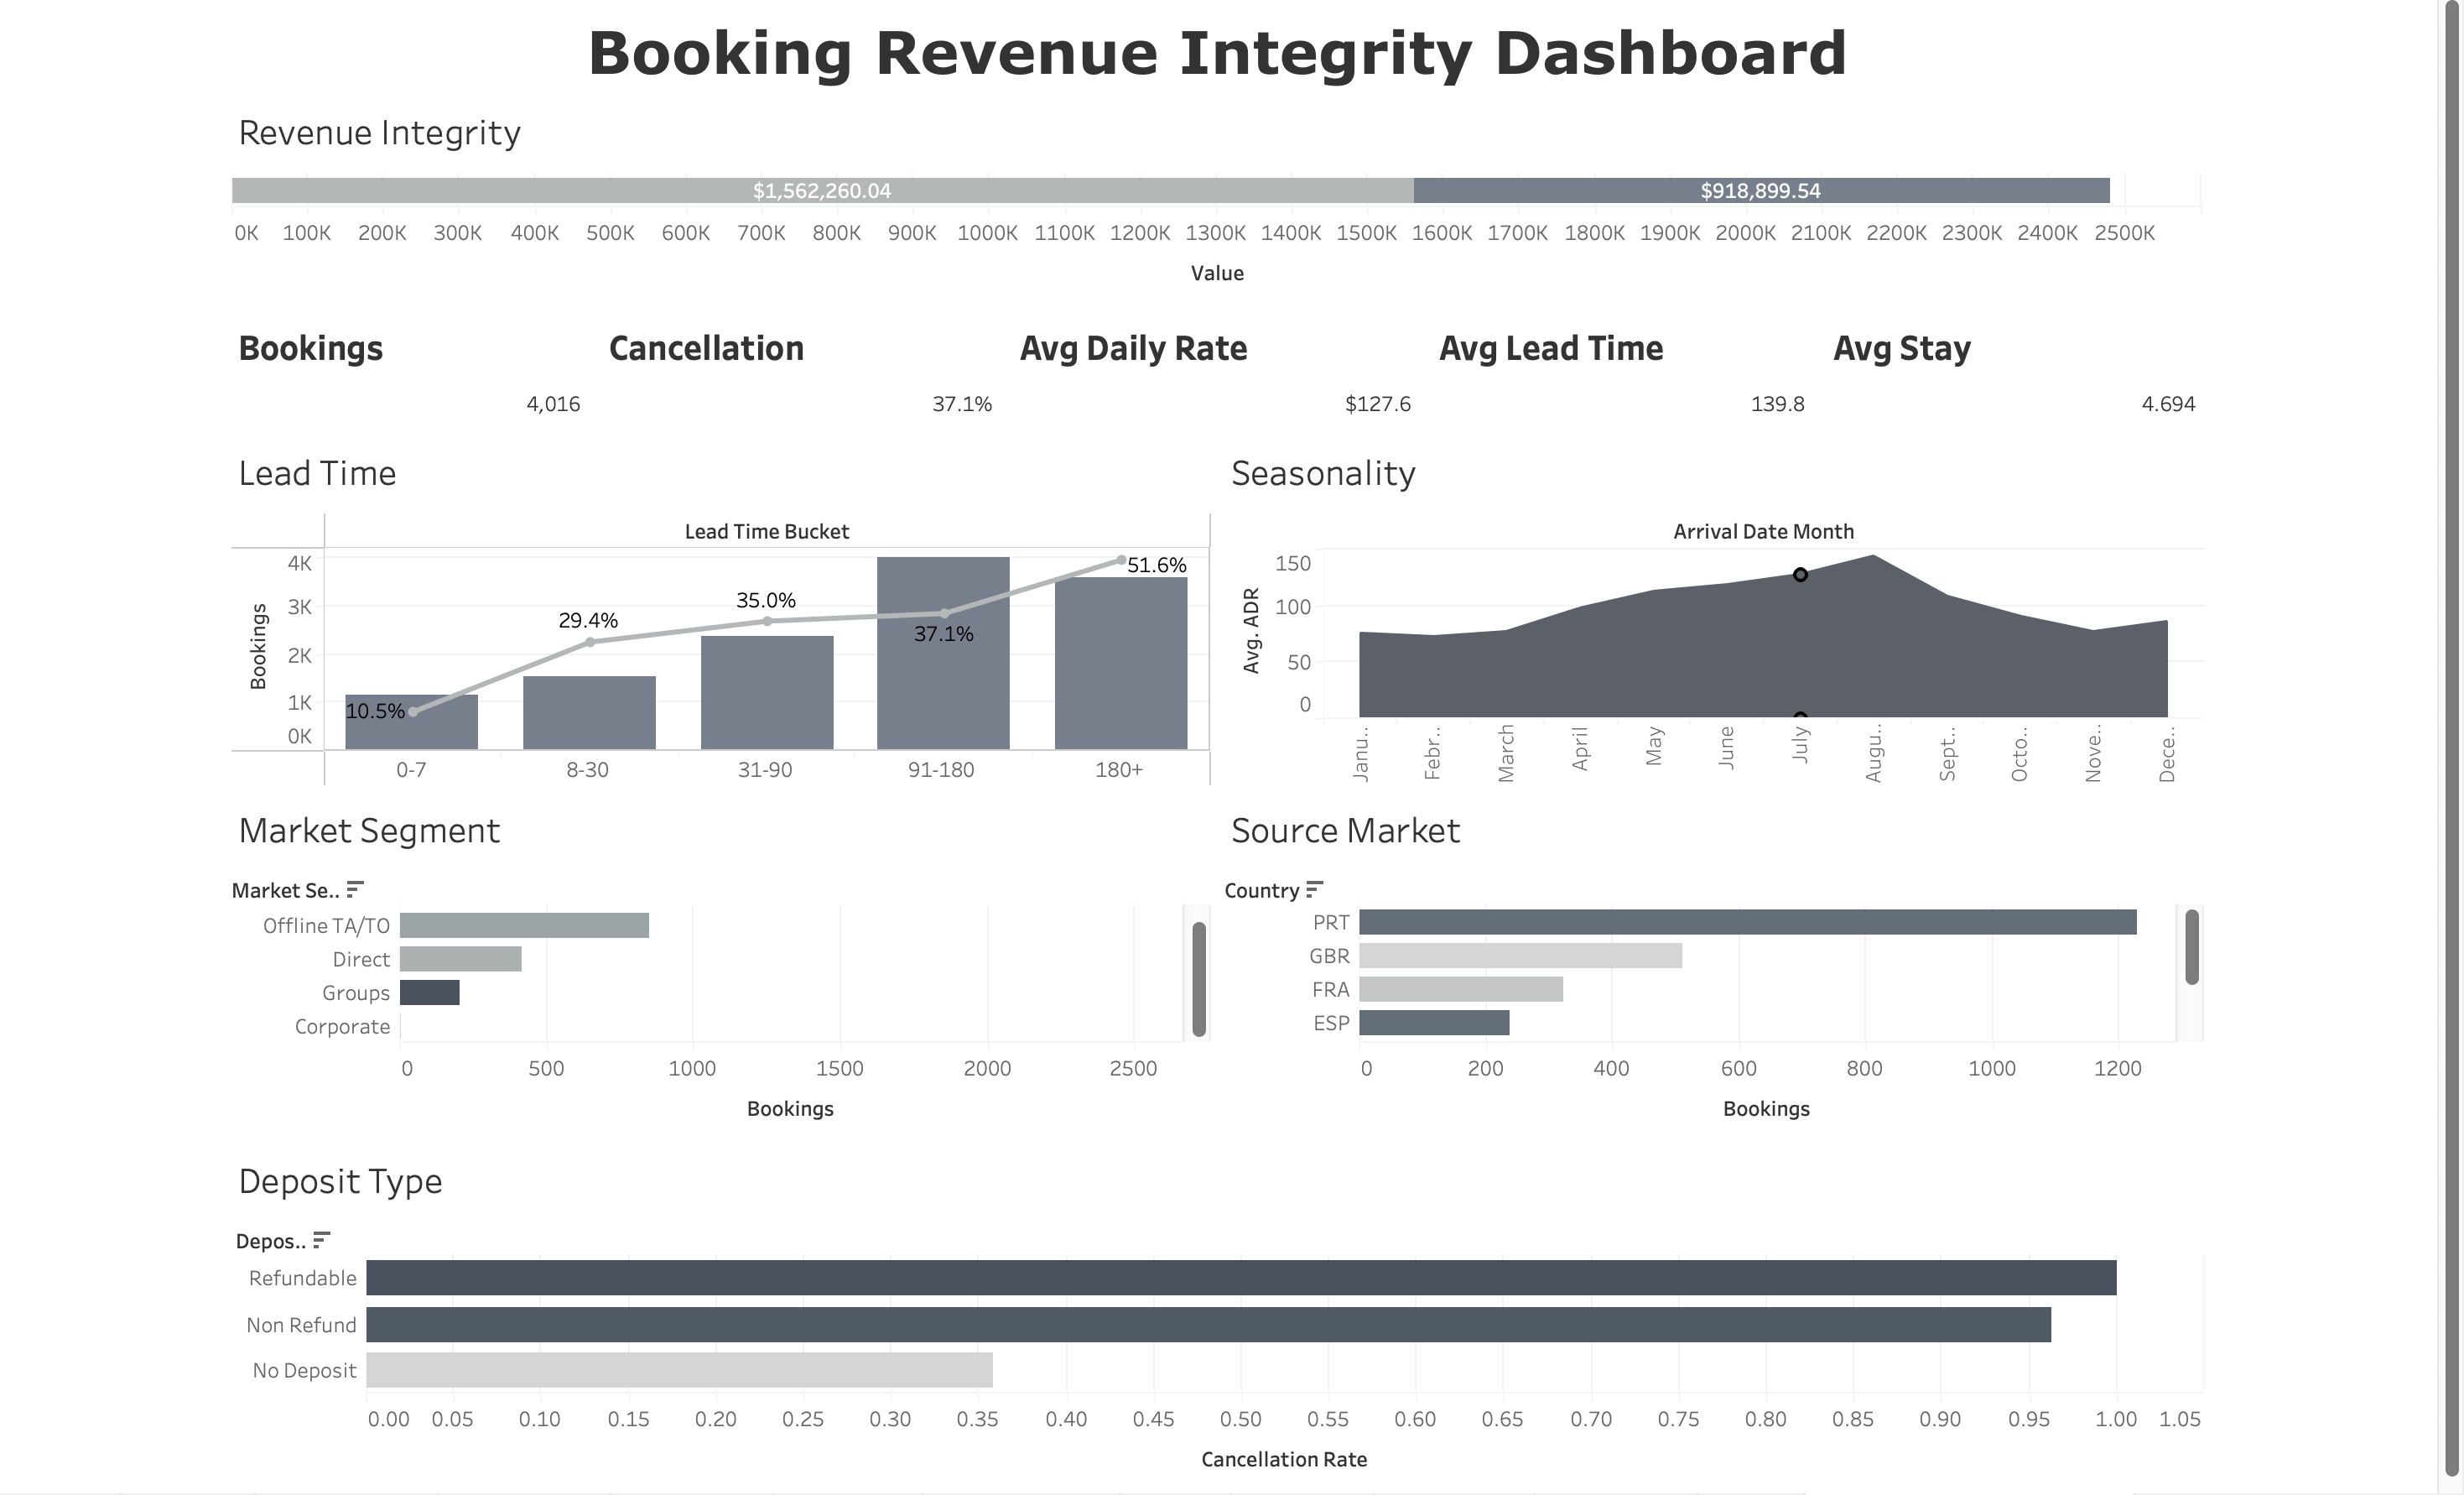

The dashboard page shown, as its layout file describes it:
{"tool":"tableau","page":{"name":"Booking Revenue Dashboard","canvas":[1200,900],"ordinal":0},"visuals":[{"type":"title","box":[8,8,1184,51]},{"type":"worksheet","title":"Revenue Integrity ","mark":"Automatic","box":[8,59,1184,129.1]},{"type":"worksheet","title":"Bookings","mark":"Automatic","box":[8,188.1,221,73.5]},{"type":"worksheet","title":"Cancellation","mark":"Automatic","box":[229,188.1,245,73.5]},{"type":"worksheet","title":"Avg Daily Rate","mark":"Automatic","box":[474,188.1,250,73.5]},{"type":"worksheet","title":"Avg Lead Time","mark":"Automatic","box":[724,188.1,235,73.5]},{"type":"worksheet","title":"Avg Stay","mark":"Automatic","box":[959,188.1,233,73.5]},{"type":"worksheet","title":"Lead Time","mark":"Automatic","rows":["Calculation_0735928118906885","Calculation_0735928119369735"],"cols":["Calculation_0735928117612545"],"box":[8,261.6,592,213.9]},{"type":"worksheet","title":"Seasonality","mark":"Area","rows":["adr"],"cols":["arrival_date_month"],"box":[600,261.6,592,213.9]},{"type":"worksheet","title":"Market Segment","mark":"Automatic","rows":["market_segment"],"cols":["Calculation_0735928118906885"],"box":[8,475.5,592,208.2]},{"type":"worksheet","title":"Source Market","mark":"Automatic","rows":["country"],"cols":["Calculation_0735928118906885"],"box":[600,475.5,592,208.2]},{"type":"worksheet","title":"Deposit Type","mark":"Automatic","rows":["deposit_type"],"cols":["Calculation_0735928119369735"],"box":[8,683.7,1184,208.3]}]}

Visuals, with their boxes on the page's 1200x900 design canvas (x1, y1, x2, y2). These are canvas units, not pixel positions in the 2464x1495 screenshot, which may show the page scaled, cropped or inside an application window:
title: bbox=(8, 8, 1192, 59)
"Revenue Integrity " worksheet: bbox=(8, 59, 1192, 188)
"Bookings" worksheet: bbox=(8, 188, 229, 262)
"Cancellation" worksheet: bbox=(229, 188, 474, 262)
"Avg Daily Rate" worksheet: bbox=(474, 188, 724, 262)
"Avg Lead Time" worksheet: bbox=(724, 188, 959, 262)
"Avg Stay" worksheet: bbox=(959, 188, 1192, 262)
"Lead Time" worksheet: bbox=(8, 262, 600, 476)
"Seasonality" worksheet (Area marks): bbox=(600, 262, 1192, 476)
"Market Segment" worksheet: bbox=(8, 476, 600, 684)
"Source Market" worksheet: bbox=(600, 476, 1192, 684)
"Deposit Type" worksheet: bbox=(8, 684, 1192, 892)
